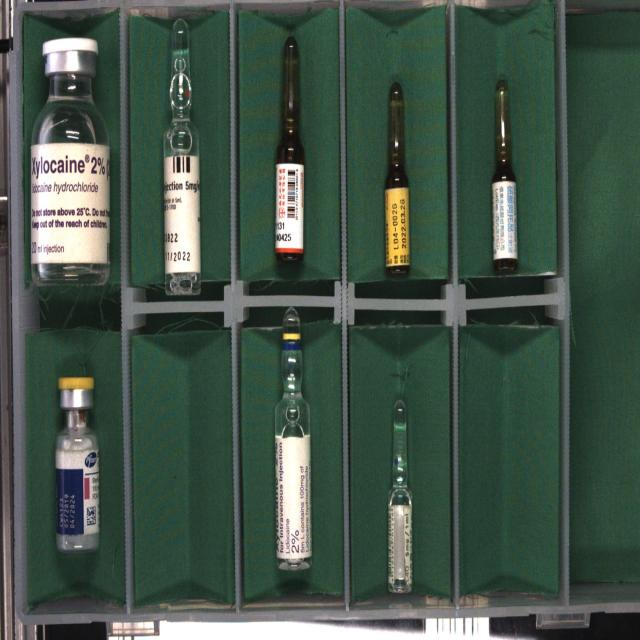Vials: (30, 37, 109, 286), (56, 377, 99, 551)
